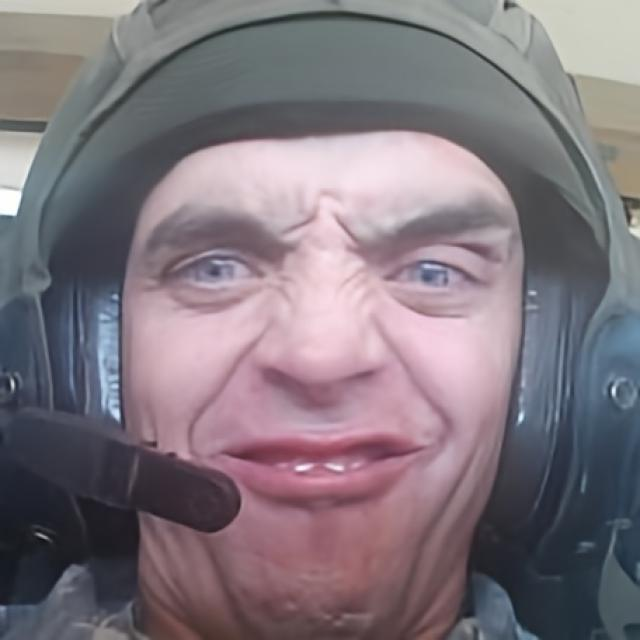disgust: (118, 132, 525, 640)
